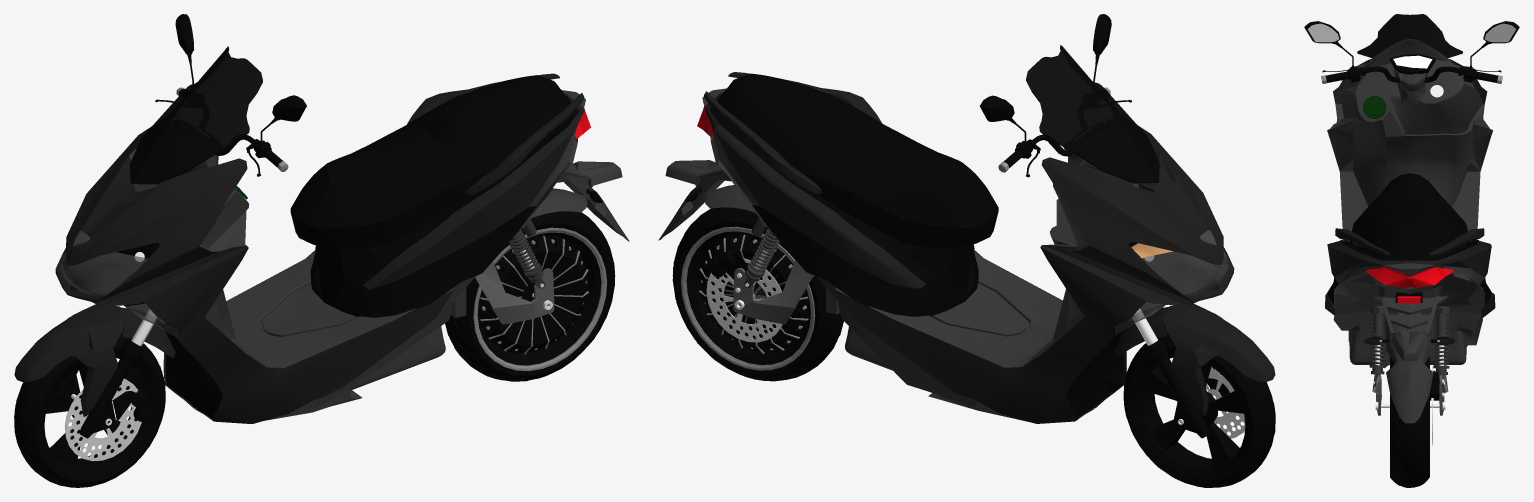
Rendered from motorcycle.glb.
The picture shows the model from 3 angles, left to right: view 1: azimuth 30°, elevation 25°; view 2: azimuth 150°, elevation 25°; view 3: azimuth 270°, elevation 25°; orthographic projection. The views are drawn at different scales.
Visible parts, largest first — view 1: body, back_tire, front_tire; view 2: body, back_tire, front_tire; view 3: body, back_tire.
Part boxes in pixels (<box>): body: <box>14,14,629,438</box>; back_tire: <box>445,211,615,381</box>; front_tire: <box>14,333,165,487</box>; body: <box>658,14,1275,438</box>; back_tire: <box>672,207,843,381</box>; front_tire: <box>1123,332,1275,487</box>; body: <box>1304,14,1519,423</box>; back_tire: <box>1390,356,1432,487</box>.
Size of the model in its own units: 3.26 by 2.02 by 1.15.
